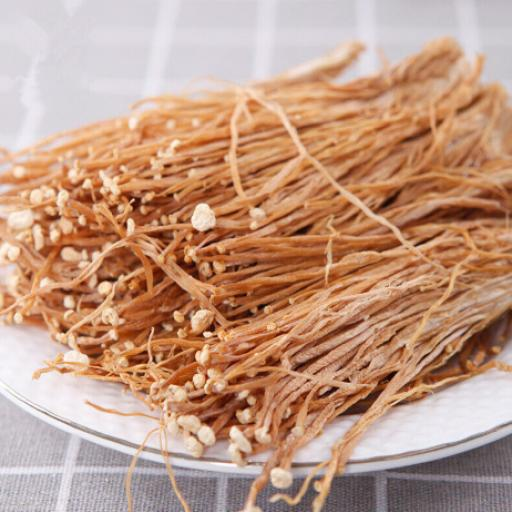Enoki Mushroom: (3, 32, 511, 504)
